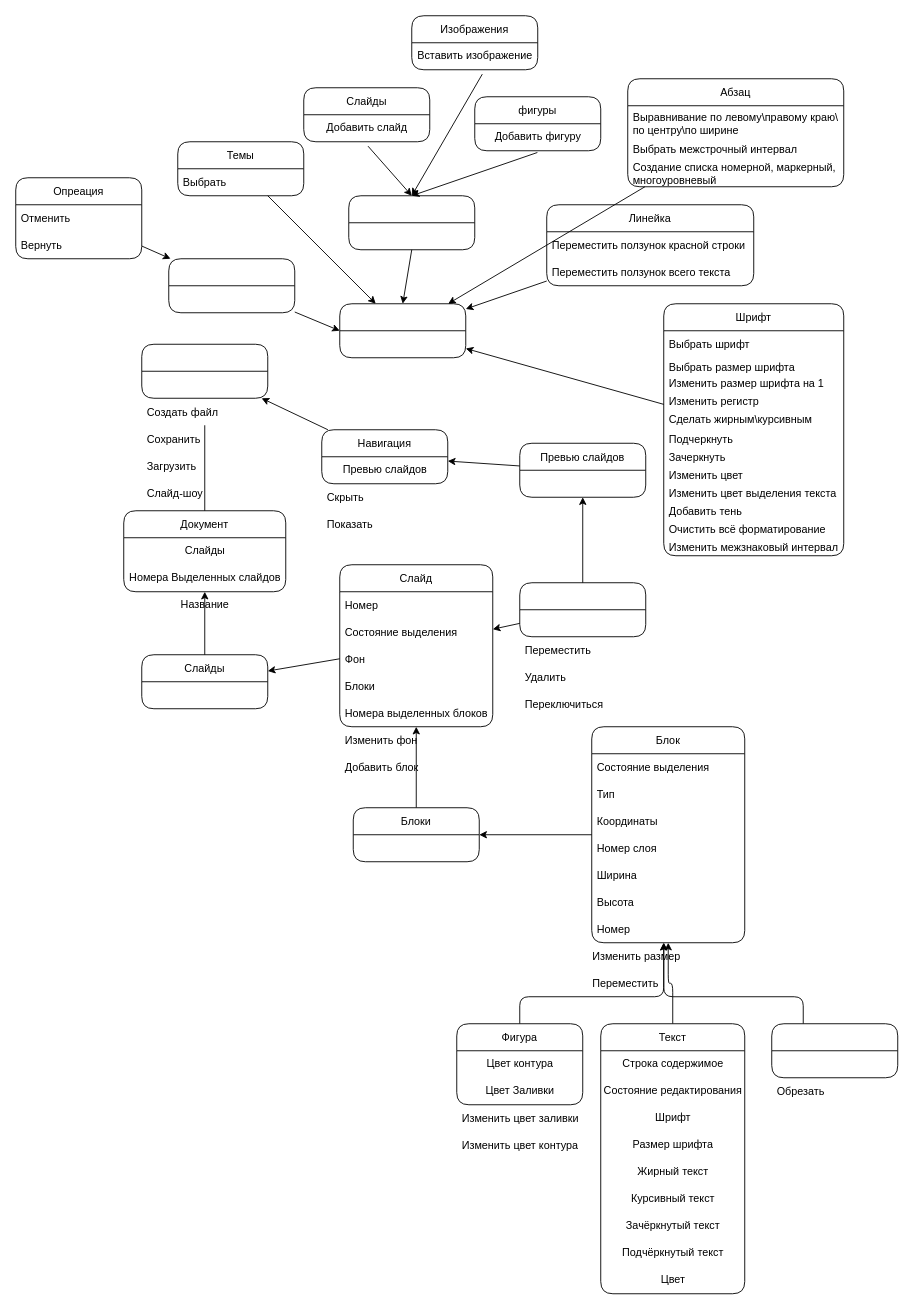
Image size: 914x1310. Some labels were removed from this diagram. The centre of each missing label's shape, as x and y in pixels:
"Вставка" goes at pixel 411 222.
"Изображение" goes at pixel 834 1050.
"Инструменты" goes at pixel 402 330.
"История операций" goes at pixel 231 285.
"Превью слайда" goes at pixel 582 609.
"Редактор" goes at pixel 204 370.
